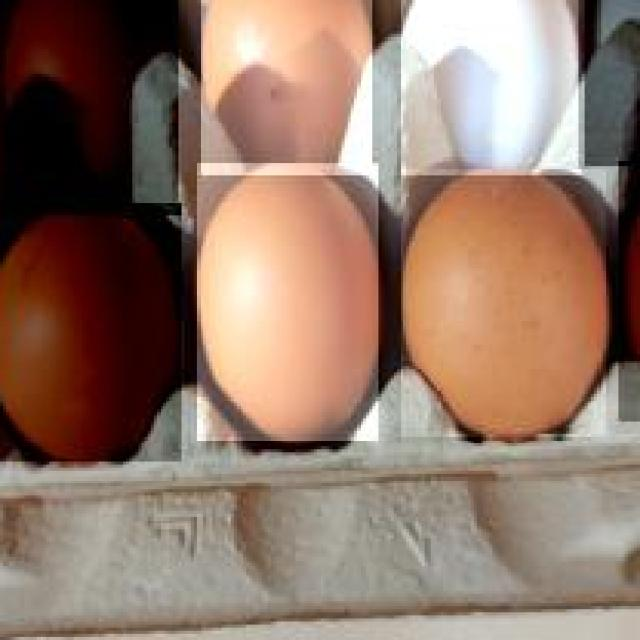egg: (0, 0, 181, 215), (396, 0, 578, 178), (199, 0, 375, 175)
